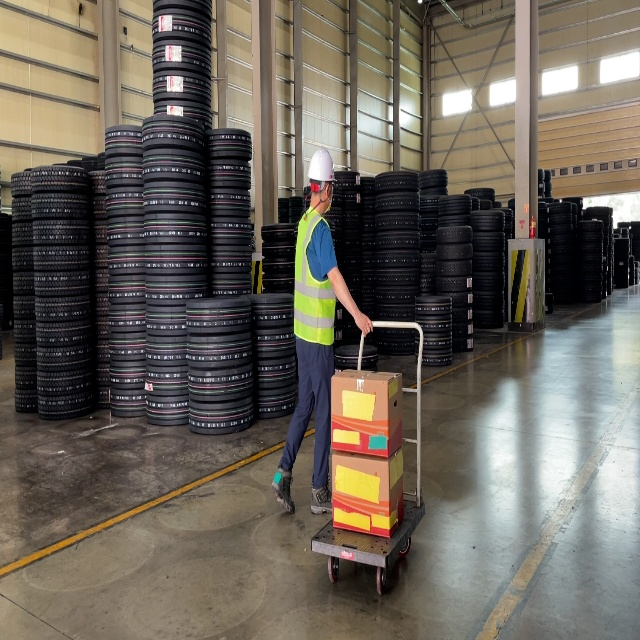Box: (332, 446, 404, 539), (331, 368, 403, 459)
Worker: (271, 146, 373, 515)
